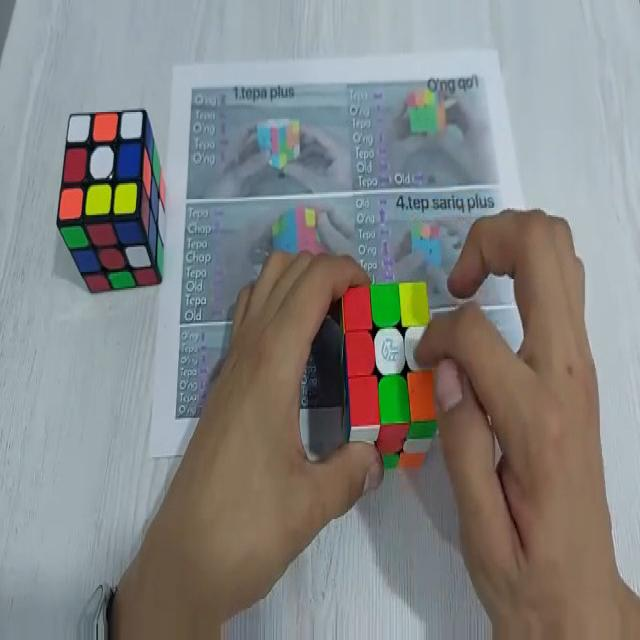Rub: (338, 276, 438, 472), (60, 110, 165, 294)
